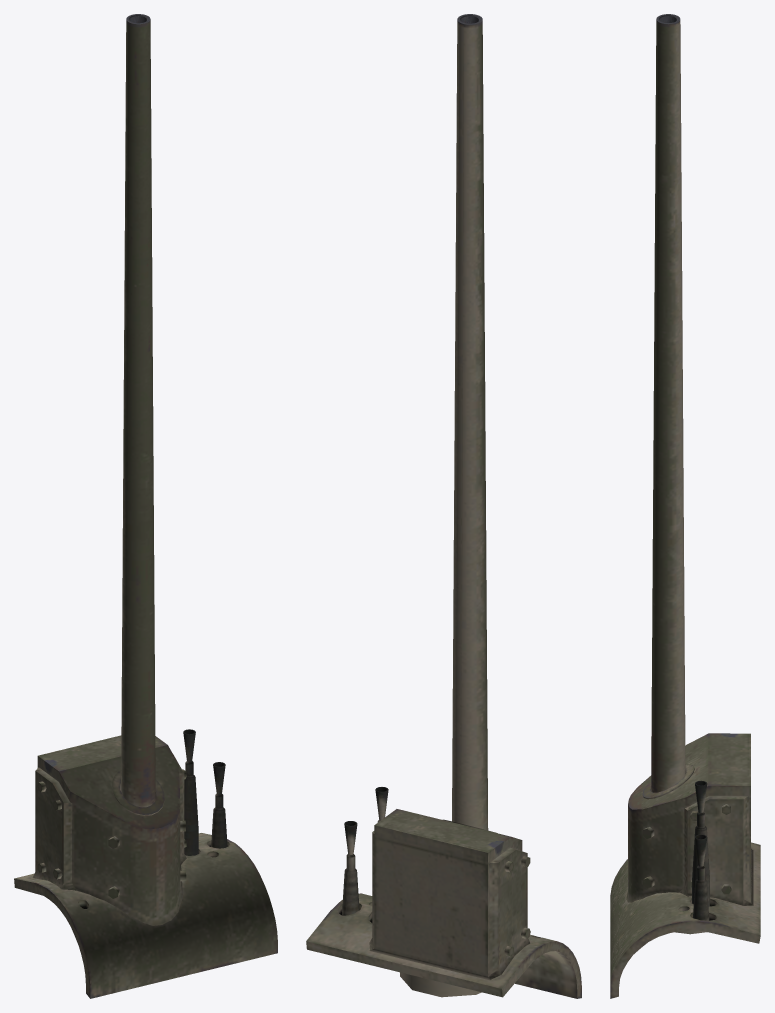
File: Gun_05.glb
3 renders of one model, left to right at view 1: azimuth 30°, elevation 25°; view 2: azimuth 150°, elevation 25°; view 3: azimuth 270°, elevation 25°, orthographic. The views are drawn at different scales.
Parts seen in each view (by area): view 1: set_0_group_0; view 2: set_0_group_0; view 3: set_0_group_0.
Boxes of the visible parts, left/top/right/bottom form: set_0_group_0: left=14, top=14, right=277, bottom=998; set_0_group_0: left=306, top=14, right=581, bottom=998; set_0_group_0: left=610, top=14, right=760, bottom=998.
Size of the model in its own units: 0.7088 by 3.39 by 0.4996.
Materials: 1 (1 with a texture image).
